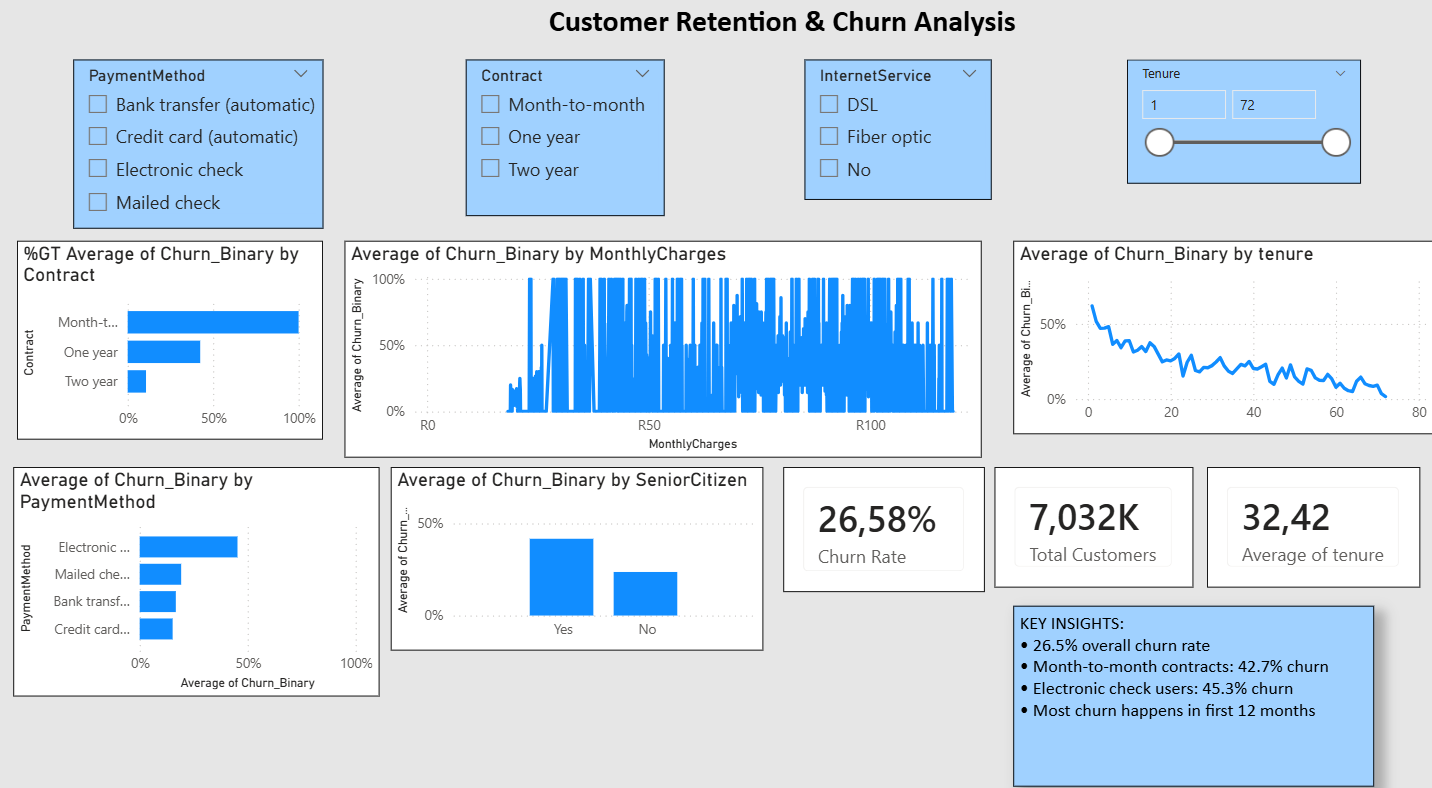

The dashboard page shown, as its layout file describes it:
{"tool":"powerbi","page":{"name":"Page 1","canvas":[1280,720],"ordinal":0},"visuals":[{"type":"textbox","box":[380.2,0,636,52.3],"z":0},{"type":"cardVisual","fields":{"Data":["Avg(Telco_Customer_Churn_CLEANED.Churn_Binary)"]},"box":[698.8,418.2,179.2,111.6],"z":1000},{"type":"cardVisual","fields":{"Data":["Telco_Customer_Churn_CLEANED.Total Customers"]},"box":[887,418.2,177,107.1],"z":2000},{"type":"barChart","fields":{"Category":["Telco_Customer_Churn_CLEANED.Contract"],"Y":["Sum(Telco_Customer_Churn_CLEANED.Churn_Binary)"]},"box":[17.8,216.8,271.7,177],"z":3000},{"type":"barChart","fields":{"Category":["Telco_Customer_Churn_CLEANED.PaymentMethod"],"Y":["Avg(Telco_Customer_Churn_CLEANED.Churn_Binary)"]},"box":[14.7,418.2,325.7,204],"z":4000},{"type":"lineChart","fields":{"Category":["Telco_Customer_Churn_CLEANED.tenure"],"Y":["Avg(Telco_Customer_Churn_CLEANED.Churn_Binary)"]},"box":[903.5,216.3,376.7,172.1],"z":5000},{"type":"lineChart","fields":{"Y":["Avg(Telco_Customer_Churn_CLEANED.Churn_Binary)"],"Category":["Telco_Customer_Churn_CLEANED.MonthlyCharges"]},"box":[309.3,216.3,566.3,193],"z":6000},{"type":"columnChart","fields":{"Category":["Telco_Customer_Churn_CLEANED.SeniorCitizen"],"Y":["Avg(Telco_Customer_Churn_CLEANED.Churn_Binary)"]},"box":[350.5,418.2,331.4,163.4],"z":7000},{"type":"slicer","fields":{"Values":["Telco_Customer_Churn_CLEANED.Contract"]},"box":[416.3,55.8,176.7,139.5],"z":8000},{"type":"slicer","fields":{"Values":["Telco_Customer_Churn_CLEANED.PaymentMethod"]},"box":[67.4,55.8,222.1,150],"z":9000},{"type":"slicer","fields":{"Values":["Telco_Customer_Churn_CLEANED.InternetService"]},"box":[717.4,55.8,166.3,124.4],"z":10000},{"type":"slicer","fields":{"Values":["Telco_Customer_Churn_CLEANED.tenure"]},"box":[1004.7,55.8,208.1,110.5],"z":11000},{"type":"textbox","box":[903.5,540.7,320.9,160.5],"z":12000},{"type":"cardVisual","fields":{"Data":["Avg(Telco_Customer_Churn_CLEANED.tenure)"]},"box":[1075.3,418.2,189.4,107.1],"z":13000}]}

Visuals, with their boxes in screenshot pixels (x1, y1, x2, y2), scaled from the page's 1280x720 canvas onto the 1432x788 screenshot:
textbox: [left=425, top=0, right=1137, bottom=57]
cardVisual - Avg(Telco_Customer_Churn_CLEANED.Churn_Binary): [left=782, top=458, right=982, bottom=580]
cardVisual - Telco_Customer_Churn_CLEANED.Total Customers: [left=992, top=458, right=1190, bottom=575]
barChart - Telco_Customer_Churn_CLEANED.Contract x Sum(Telco_Customer_Churn_CLEANED.Churn_Binary): [left=20, top=237, right=324, bottom=431]
barChart - Telco_Customer_Churn_CLEANED.PaymentMethod x Avg(Telco_Customer_Churn_CLEANED.Churn_Binary): [left=16, top=458, right=381, bottom=681]
lineChart - Telco_Customer_Churn_CLEANED.tenure x Avg(Telco_Customer_Churn_CLEANED.Churn_Binary): [left=1011, top=237, right=1431, bottom=425]
lineChart - Avg(Telco_Customer_Churn_CLEANED.Churn_Binary) x Telco_Customer_Churn_CLEANED.MonthlyCharges: [left=346, top=237, right=980, bottom=448]
columnChart - Telco_Customer_Churn_CLEANED.SeniorCitizen x Avg(Telco_Customer_Churn_CLEANED.Churn_Binary): [left=392, top=458, right=763, bottom=637]
slicer - Telco_Customer_Churn_CLEANED.Contract: [left=466, top=61, right=663, bottom=214]
slicer - Telco_Customer_Churn_CLEANED.PaymentMethod: [left=75, top=61, right=324, bottom=225]
slicer - Telco_Customer_Churn_CLEANED.InternetService: [left=803, top=61, right=989, bottom=197]
slicer - Telco_Customer_Churn_CLEANED.tenure: [left=1124, top=61, right=1357, bottom=182]
textbox: [left=1011, top=592, right=1370, bottom=767]
cardVisual - Avg(Telco_Customer_Churn_CLEANED.tenure): [left=1203, top=458, right=1415, bottom=575]
